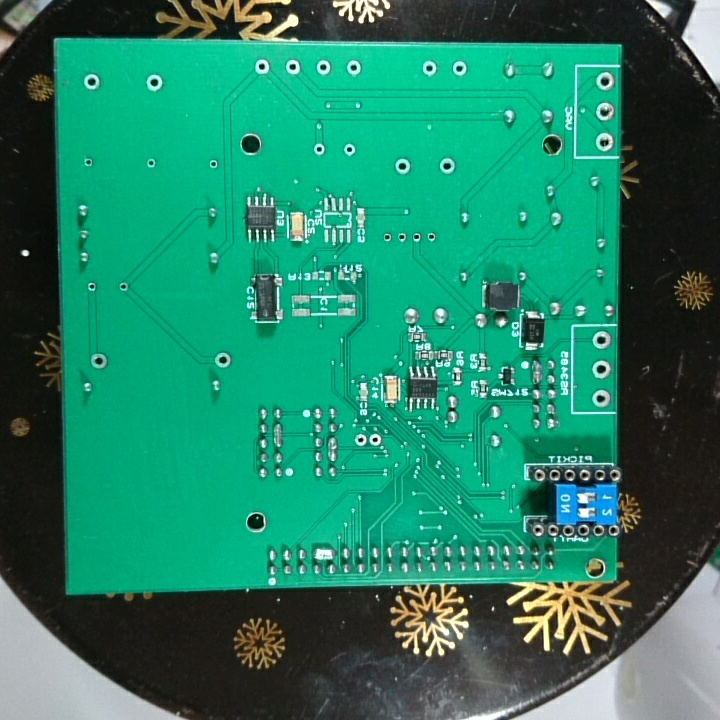F: (588, 328, 613, 352), (594, 100, 616, 124), (590, 386, 612, 410), (594, 70, 616, 93), (589, 359, 611, 382), (594, 131, 615, 154), (88, 349, 109, 371), (144, 72, 165, 94), (391, 155, 412, 177), (438, 154, 456, 178), (213, 351, 234, 371), (419, 58, 440, 78), (82, 72, 102, 92), (282, 58, 302, 77), (314, 58, 333, 78), (451, 57, 469, 78), (253, 57, 272, 75), (344, 58, 362, 77), (351, 432, 368, 449), (341, 140, 357, 158), (311, 141, 329, 157), (394, 229, 409, 248), (368, 432, 384, 449), (423, 230, 439, 247), (408, 229, 423, 246), (143, 155, 158, 170), (85, 279, 99, 295), (206, 157, 219, 172), (381, 231, 394, 246), (116, 280, 130, 293), (81, 155, 94, 169)
P: (311, 545, 336, 564), (271, 420, 286, 449), (530, 357, 543, 388), (325, 435, 339, 463)
